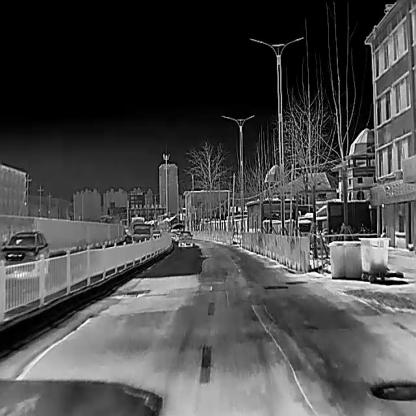car: (0, 230, 48, 277), (131, 223, 151, 243), (178, 230, 192, 245), (152, 230, 161, 239)
